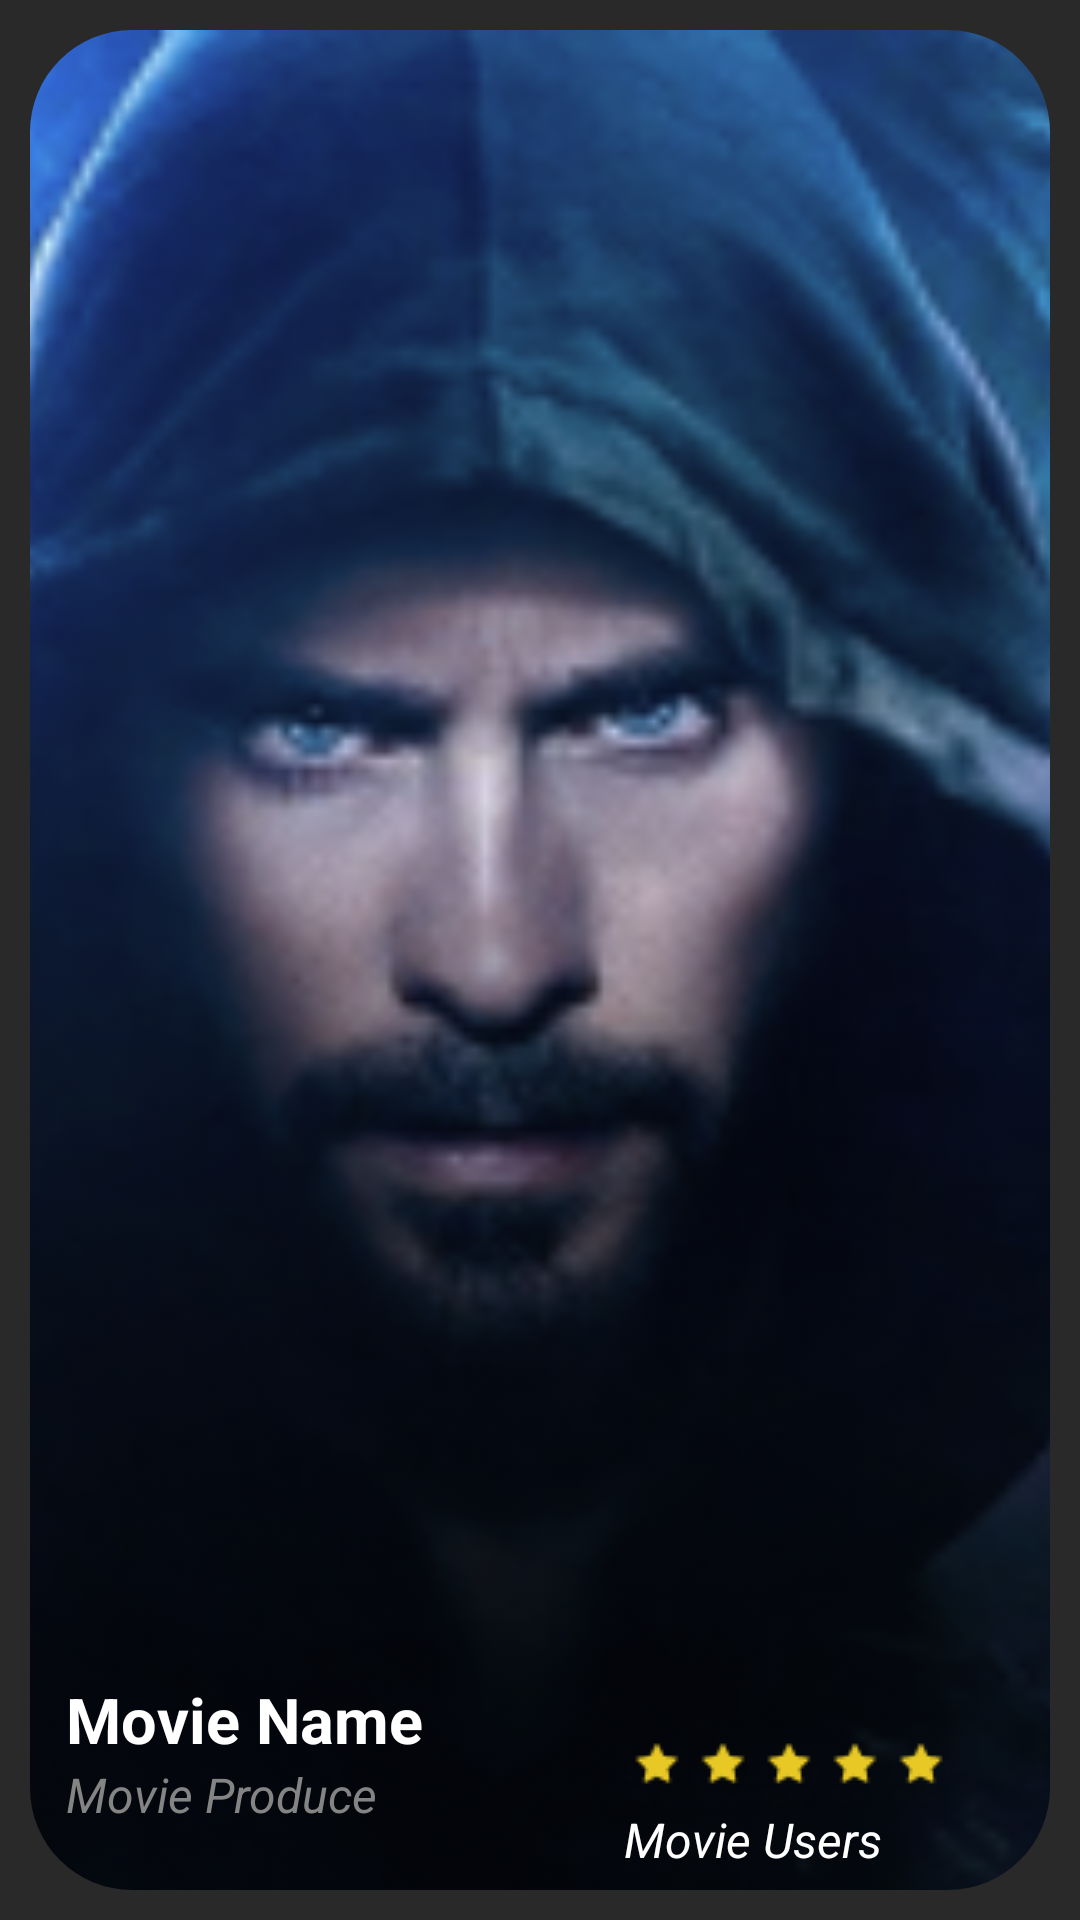

Named icons in this screenshot (1080 × 1920) and their bounding boxes, (x1, y1, x2, y2):
Star: (635, 1743, 678, 1784), (701, 1743, 744, 1784), (767, 1743, 811, 1784), (833, 1743, 877, 1784), (899, 1743, 942, 1784)
